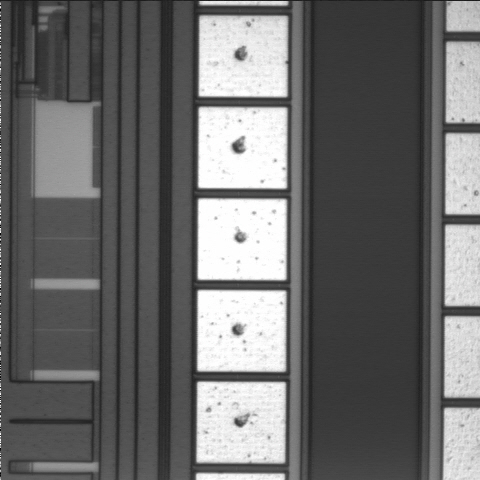pad: (198, 107, 287, 189), (198, 198, 287, 280), (197, 290, 286, 372), (199, 16, 288, 97), (197, 382, 286, 463)
